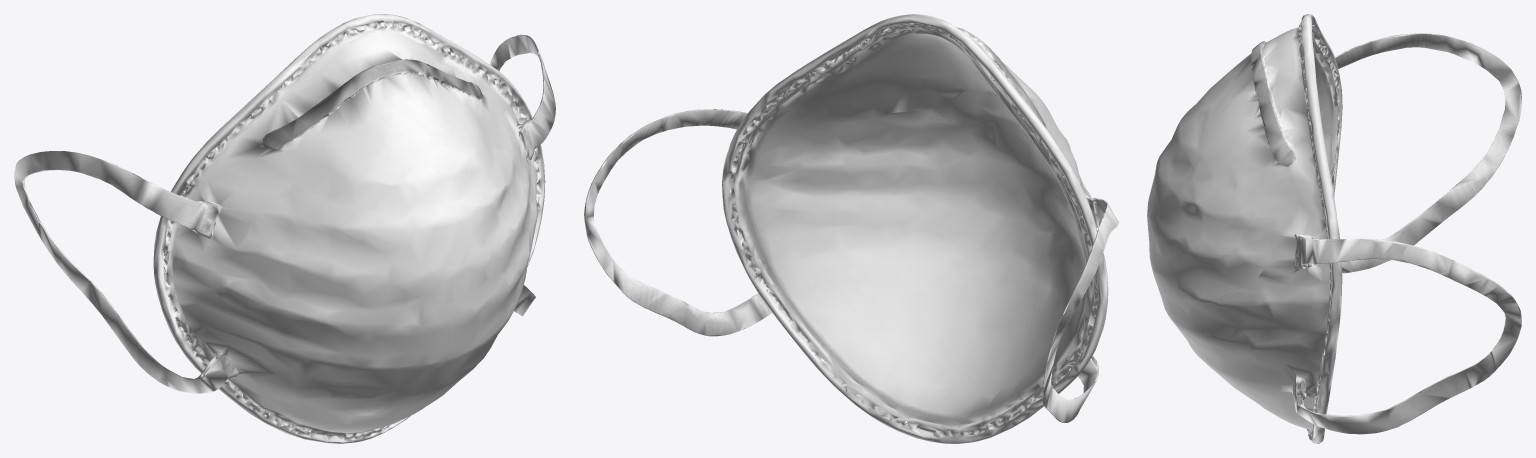
Rendered from mask.glb.
3 views of the same model, side by side, from view 1: azimuth 30°, elevation 25°; view 2: azimuth 150°, elevation 25°; view 3: azimuth 270°, elevation 25° (orthographic). The views are drawn at different scales.
Visible parts, largest first — view 1: Mesh1.0; view 2: Mesh1.0; view 3: Mesh1.0.
Boxes of the visible parts, left/top/right/bottom form: Mesh1.0: left=14, top=14, right=555, bottom=443; Mesh1.0: left=584, top=14, right=1118, bottom=443; Mesh1.0: left=1147, top=14, right=1521, bottom=443.
Size of the model in its own units: 0.1431 by 0.12 by 0.0996.
1 material, 1 textured.
